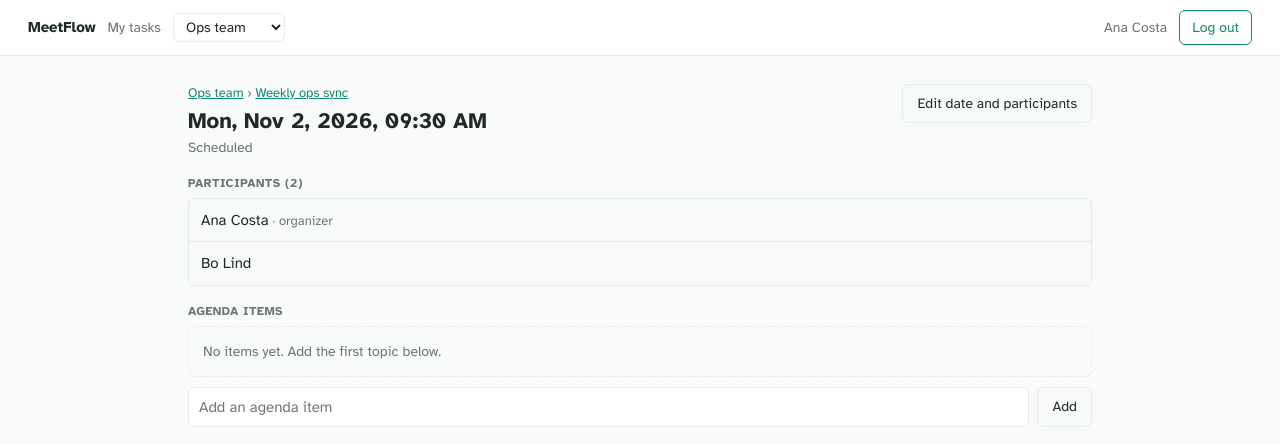
the agenda › lets the organizer add an item
The width and height of the screenshot is (1280, 444).
Expected: the text "No items yet. Add the first topic below." is shown, x1=188 y1=326 x2=1092 y2=376
Type "  Budget  " into the field named "New agenda item".
click(609, 407); type("  Budget  ")  # box x1=188 y1=386 x2=1029 y2=427
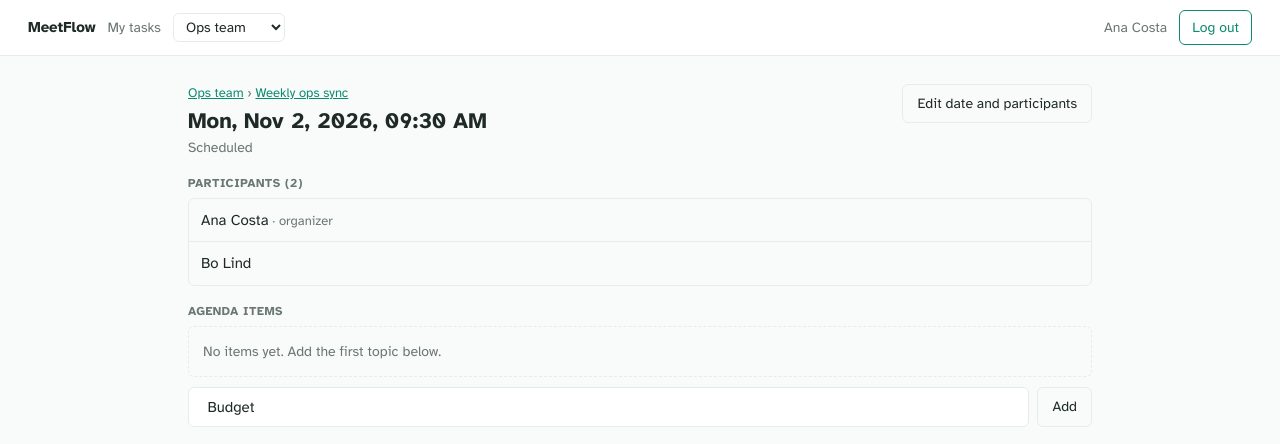
Click the button "Add".
click(1065, 407)  # box x1=1037 y1=386 x2=1092 y2=427
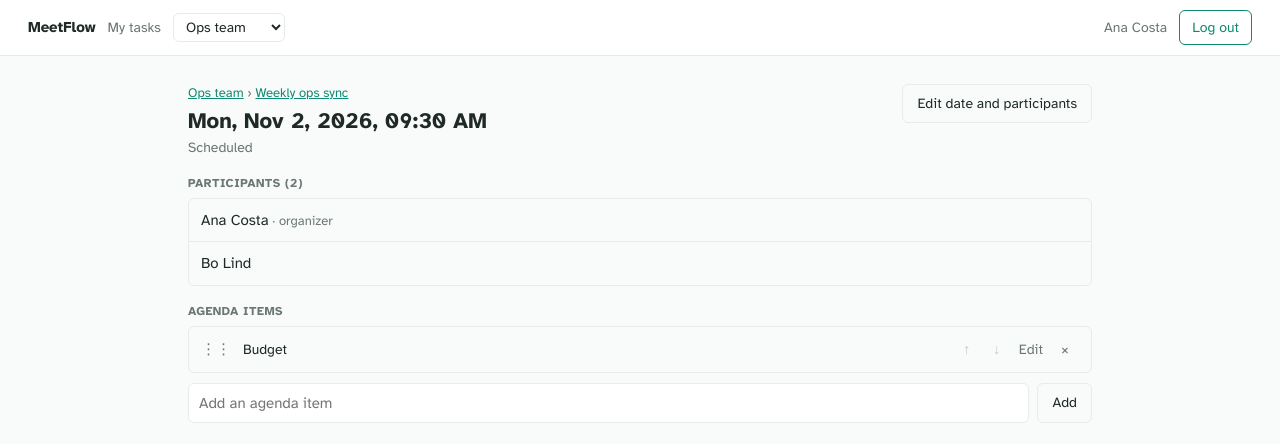
Result: the text "Budget" is shown at x1=243 y1=340 x2=287 y2=358
Result: the field named "New agenda item" is empty at x1=188 y1=382 x2=1029 y2=423
